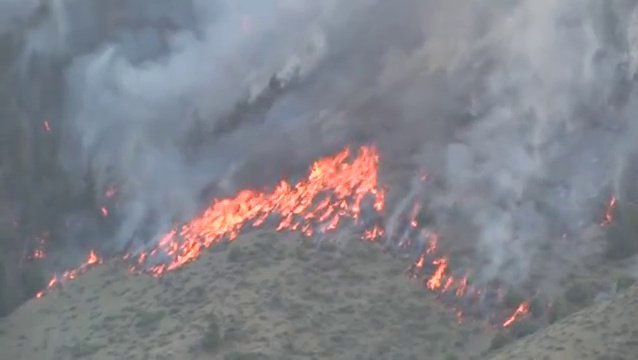fire: (139, 183, 305, 262), (310, 146, 385, 208), (429, 259, 446, 288), (86, 250, 100, 262)
